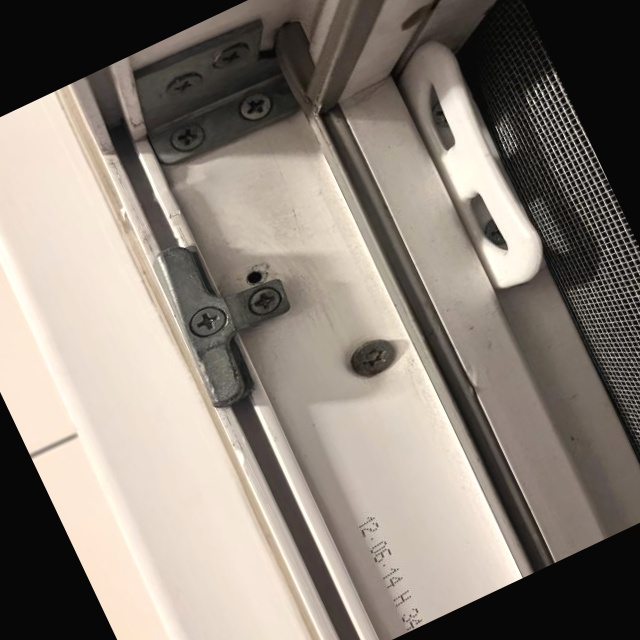phillips: (184, 300, 232, 344), (162, 67, 207, 103), (235, 87, 276, 126), (167, 118, 209, 156), (244, 283, 286, 320), (210, 40, 253, 73)
torx: (345, 333, 402, 383)
